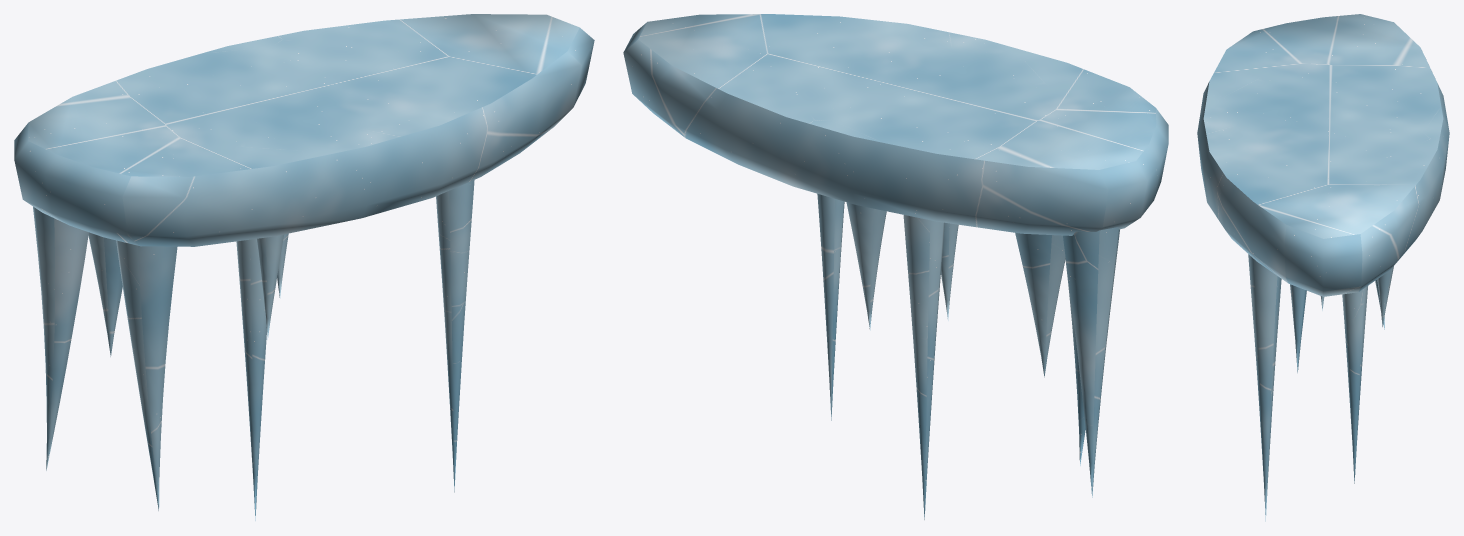
Rendered from SM_Icicles_Cluster.fbx.
3 renders of one model, left to right at view 1: azimuth 30°, elevation 25°; view 2: azimuth 150°, elevation 25°; view 3: azimuth 270°, elevation 25°, orthographic. The views are drawn at different scales.
Visible parts, largest first — view 1: SM_Icicles_Cluster; view 2: SM_Icicles_Cluster; view 3: SM_Icicles_Cluster.
Boxes of the visible parts, bbox=[...] form: SM_Icicles_Cluster: bbox=[14, 14, 594, 520]; SM_Icicles_Cluster: bbox=[623, 14, 1168, 519]; SM_Icicles_Cluster: bbox=[1197, 14, 1449, 521].
Size of what is drawn, in the model's own units: 64 by 142 by 105.
